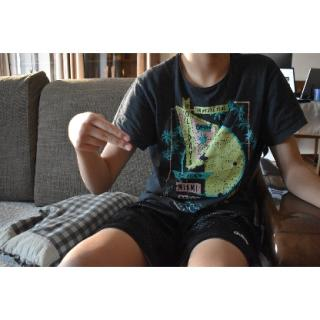AYN: (66, 106, 135, 157)
